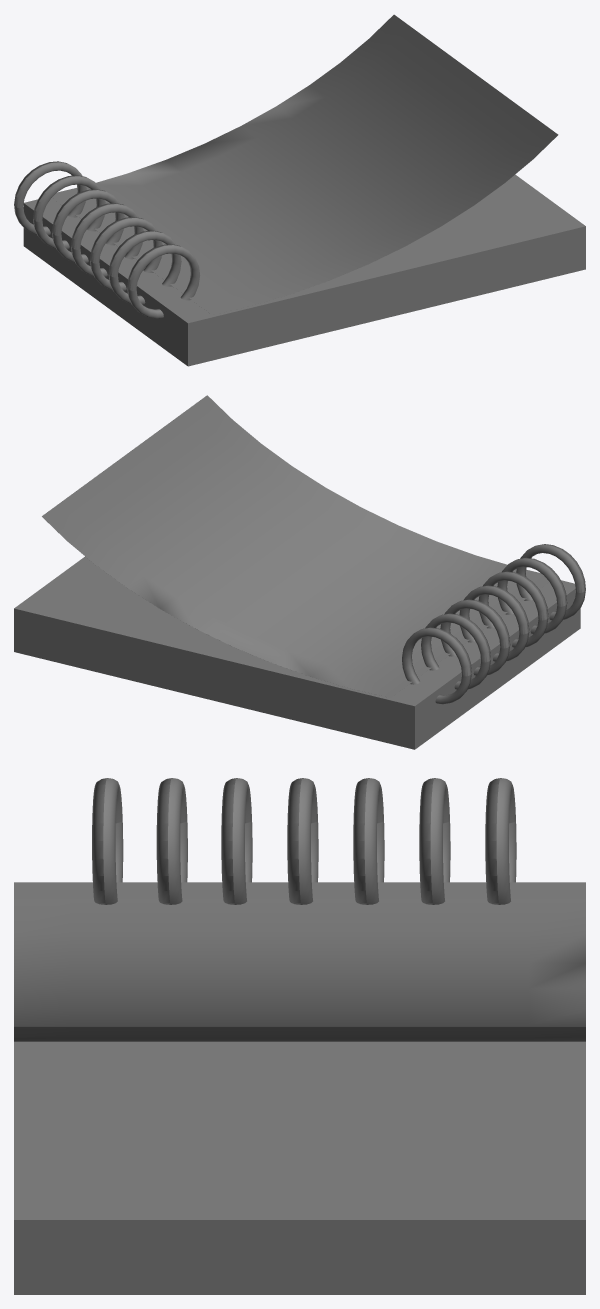
Rendered from Notepad3.obj.
3 renders of one model, top to bottom at view 1: azimuth 30°, elevation 25°; view 2: azimuth 150°, elevation 25°; view 3: azimuth 270°, elevation 25°, orthographic. The views are drawn at different scales.
Parts seen in each view (by area): view 1: ChamferBox; view 2: ChamferBox; view 3: ChamferBox.
Part boxes in pixels (bbox=[...]): ChamferBox: bbox=[14, 14, 585, 366]; ChamferBox: bbox=[14, 395, 585, 749]; ChamferBox: bbox=[14, 778, 585, 1294].
Bounding box in the file's own units: 60.95 × 19.14 × 40.41.
Materials: 1 (1 with a texture image).
